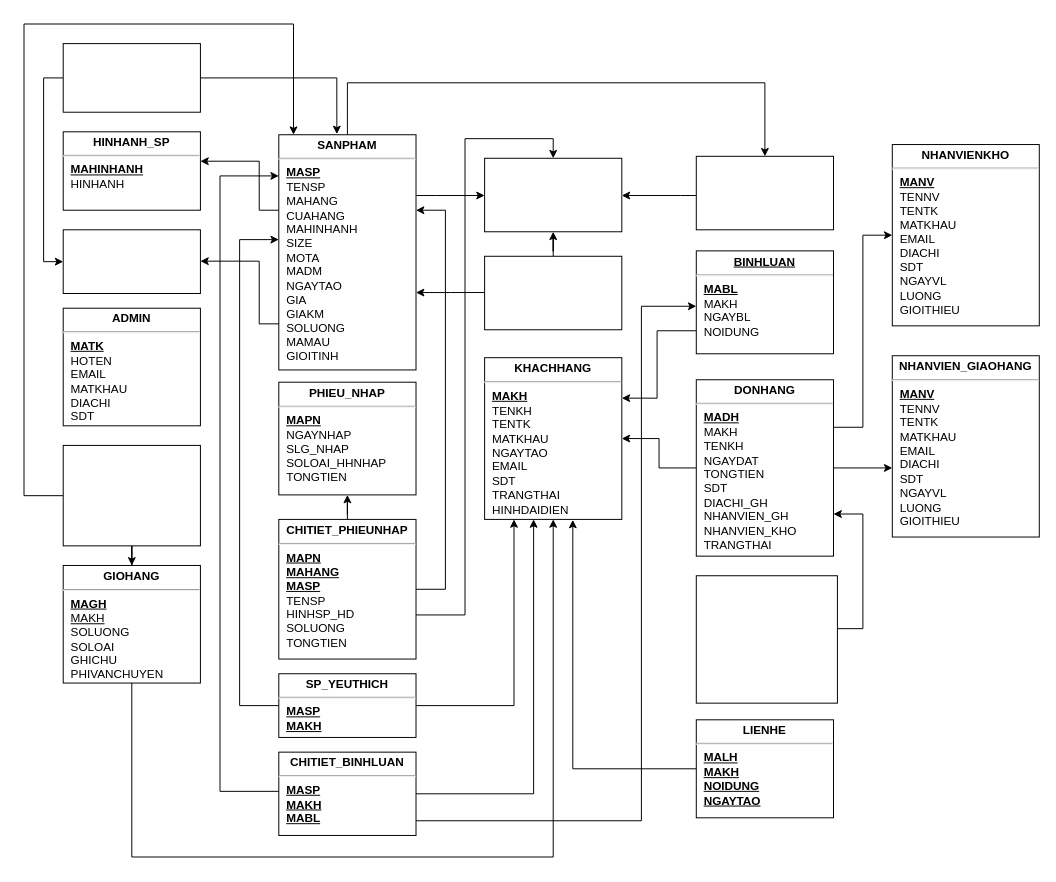
The diagram is 1056 pixels wide and 882 high, and some of its shapes have lost their labels. Here are the shapes that lost their labels. From the top down, the centre of each, then its label:
pixel 131 77: DS_DANHMUC MADM MASP
pixel 553 194: HANGSX MAHANG TENHANG
pixel 764 192: DS_MAU MAMAU MAU
pixel 131 261: DANHMUC MADM TENDM
pixel 553 292: DS_HANGSX MAHANG MASP
pixel 131 495: CHITIET_GIOHANG MAGH MASP SOLUONG TONGTIEN
pixel 766 639: CHITIET_DH MADH MASP SOLUONG HINHSP TENSP TONGTIEN
